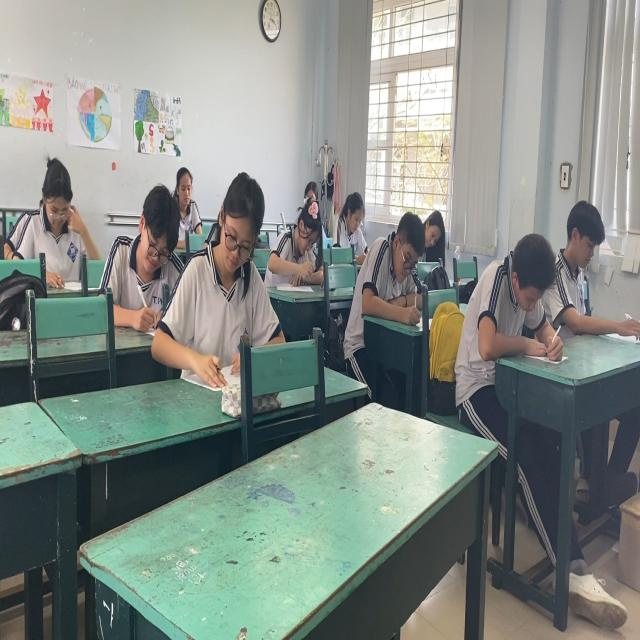not_cheating: (194, 158, 268, 341), (470, 225, 556, 372), (102, 186, 192, 321), (553, 200, 631, 348), (15, 151, 93, 269), (359, 217, 424, 310), (276, 200, 318, 292), (170, 161, 206, 234), (334, 192, 374, 255), (414, 206, 448, 255)
